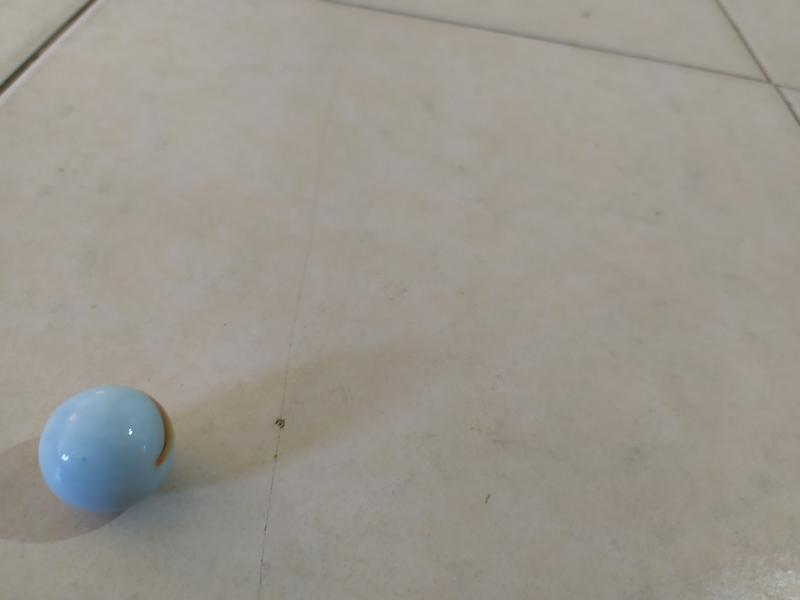Warning: (33, 380, 182, 518)
